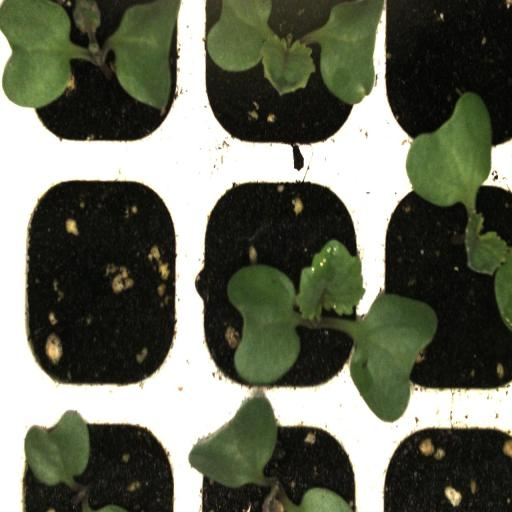Folha: (189, 394, 280, 489), (105, 0, 181, 109), (24, 415, 91, 487)
Germinacao: (191, 163, 373, 403), (371, 160, 512, 403), (2, 0, 195, 163), (194, 1, 376, 170)
